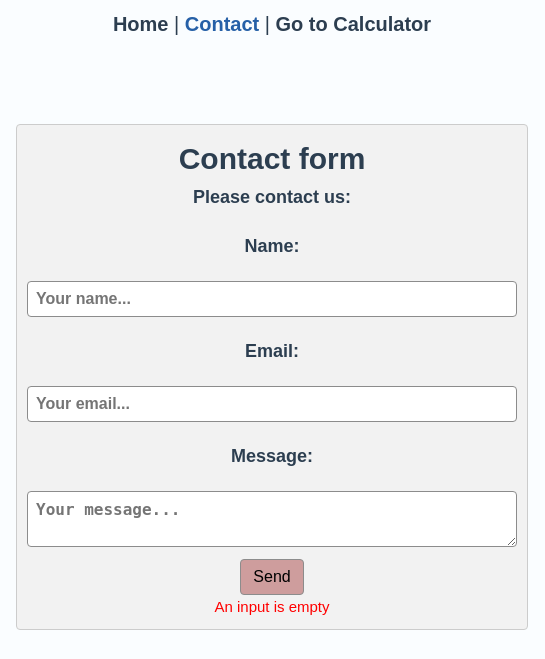
Testing that form submits and displays success › visits the contact view and inputs correct inputs -> displays success
Expected: the heading "Contact form" is shown, [179,142,365,175]
Type "Senpai Surya" into the field with id "nameInput". click: coordinates (272, 299)
box: [27,281,517,317]
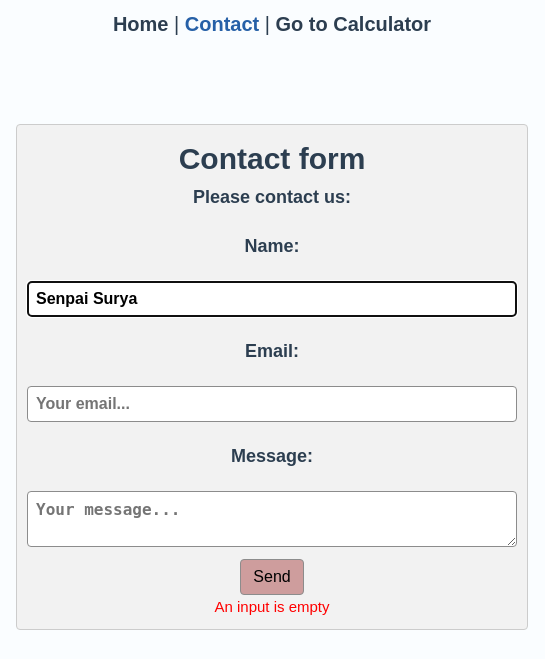
Type "example@email.no" into the field with id "emailInput". click: coordinates (272, 404)
box: [27,386,517,422]
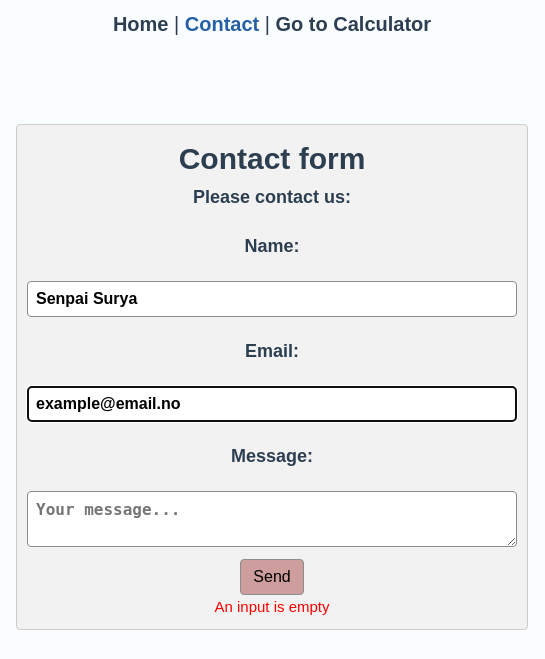
Type "Random message" into the text box with id "messageInput". click: coordinates (272, 519)
box: [27,491,517,547]
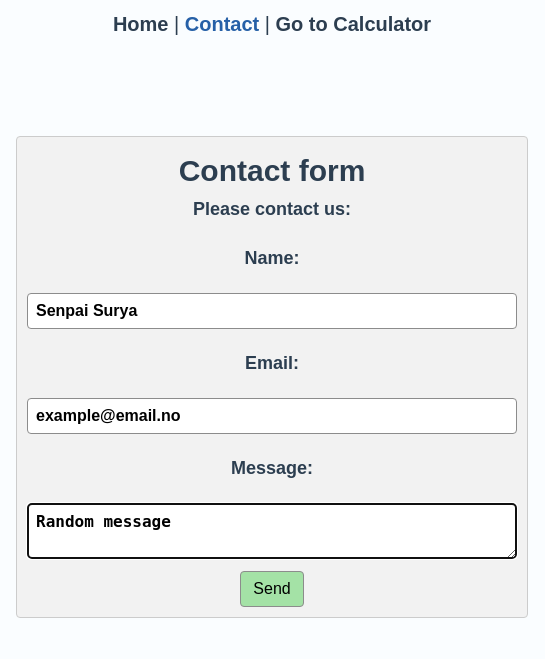
Result: the button with id "submitButton" is enabled
Click the button with id "submitButton". click: coordinates (272, 589)
box: [240,571,303,607]
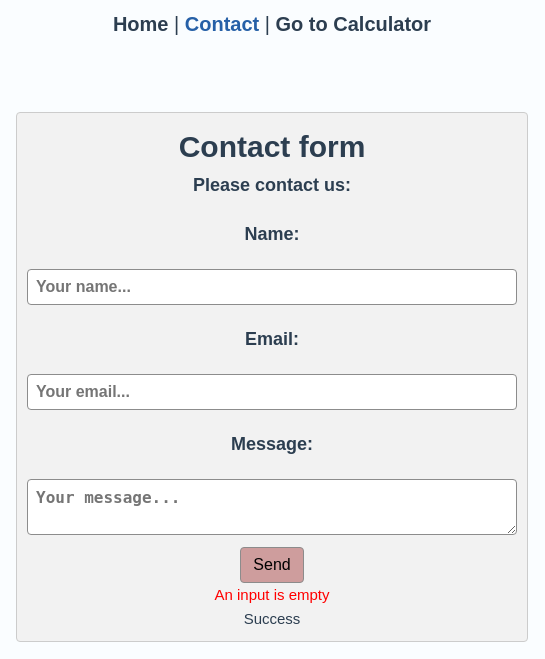
Result: the text with id "statusP" reads "Success" at [244,610,301,627]
